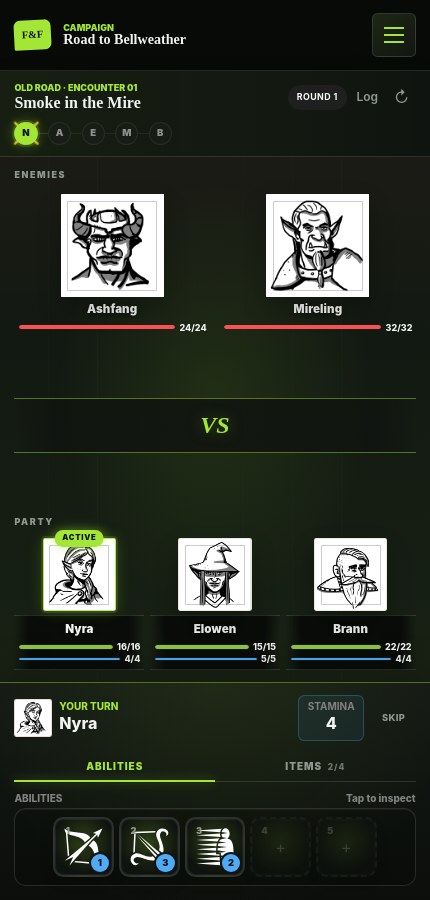
<CombatPrototype /> › clearly presents a failed roll and keeps the settled die visible
This screenshot has width=430, height=900.
Click the button with test id "skill-quick-shot": (84,848) [53, 817, 114, 878]
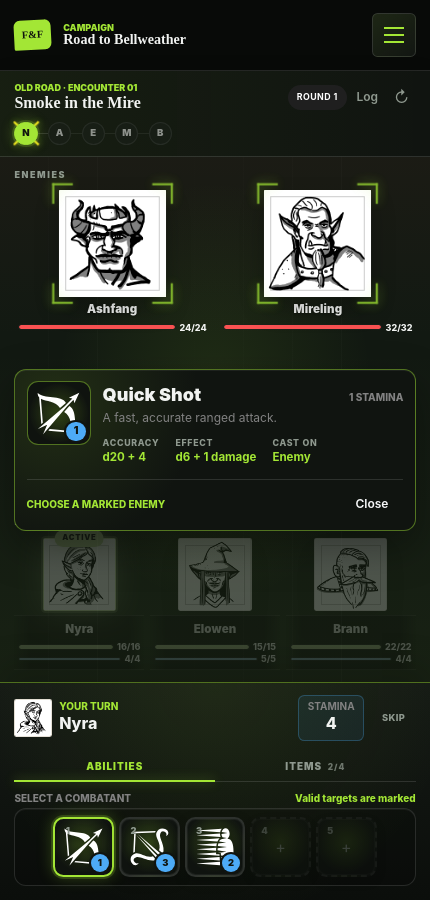
Click the button with test id "target-ashfang": (112,263) [14, 191, 209, 335]
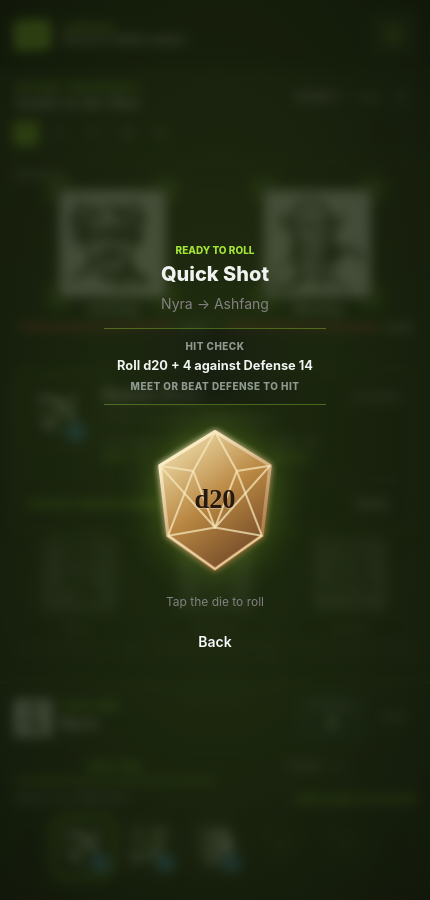
Click the button with test id "roll-trigger": (215,501) [147, 426, 283, 576]
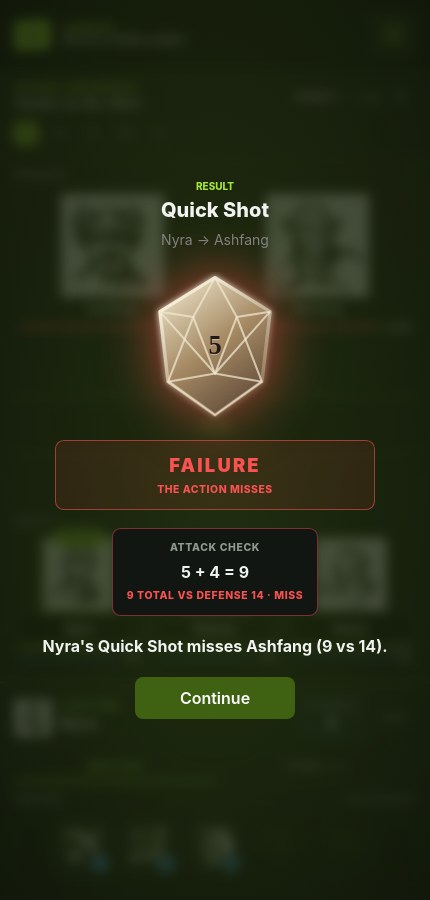
expect the element with test id "action-verdict" shows "Failure": met, box [55, 440, 375, 510]
expect the element with test id "settled-die" is shown: met, box [147, 272, 283, 422]
